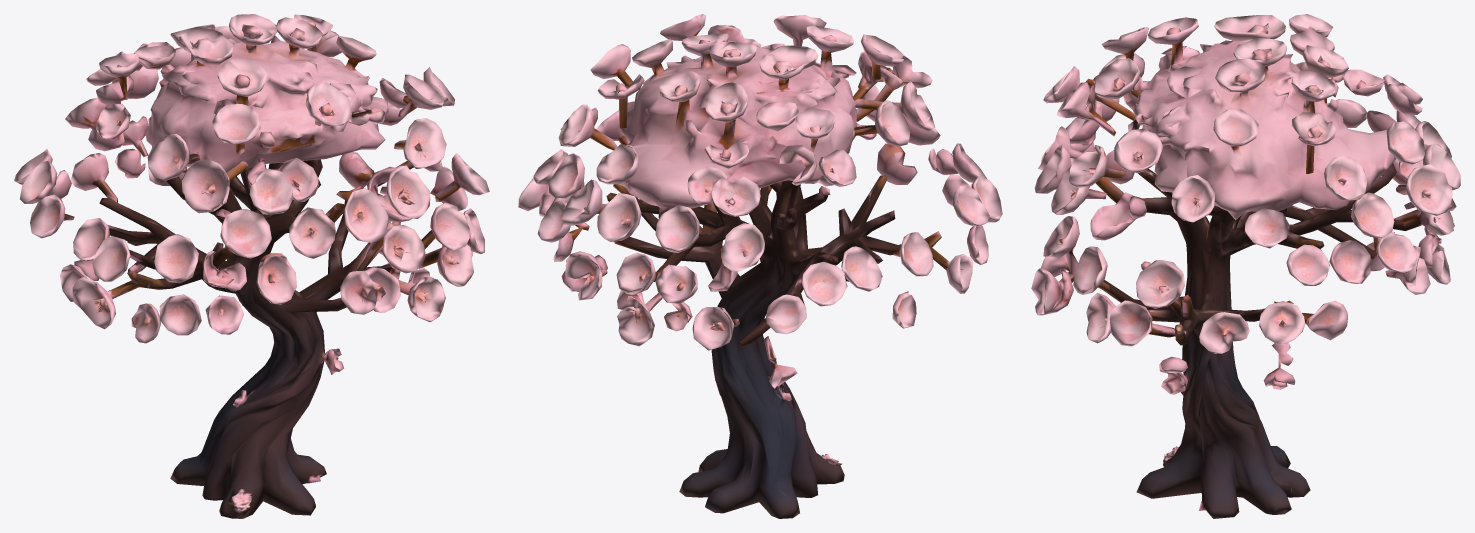
The model's file is tree_sakura.glb.
3 renders of one model, left to right at view 1: azimuth 30°, elevation 25°; view 2: azimuth 150°, elevation 25°; view 3: azimuth 270°, elevation 25°, orthographic.
Parts seen in each view (by area): view 1: node_0; view 2: node_0; view 3: node_0.
Part boxes in pixels (bbox=[...]): node_0: bbox=[14, 14, 489, 518]; node_0: bbox=[518, 14, 1002, 518]; node_0: bbox=[1031, 14, 1460, 518].
Bounding box in the file's own units: 5.81 × 6 × 5.22.
Materials: 1 (1 with a texture image).
